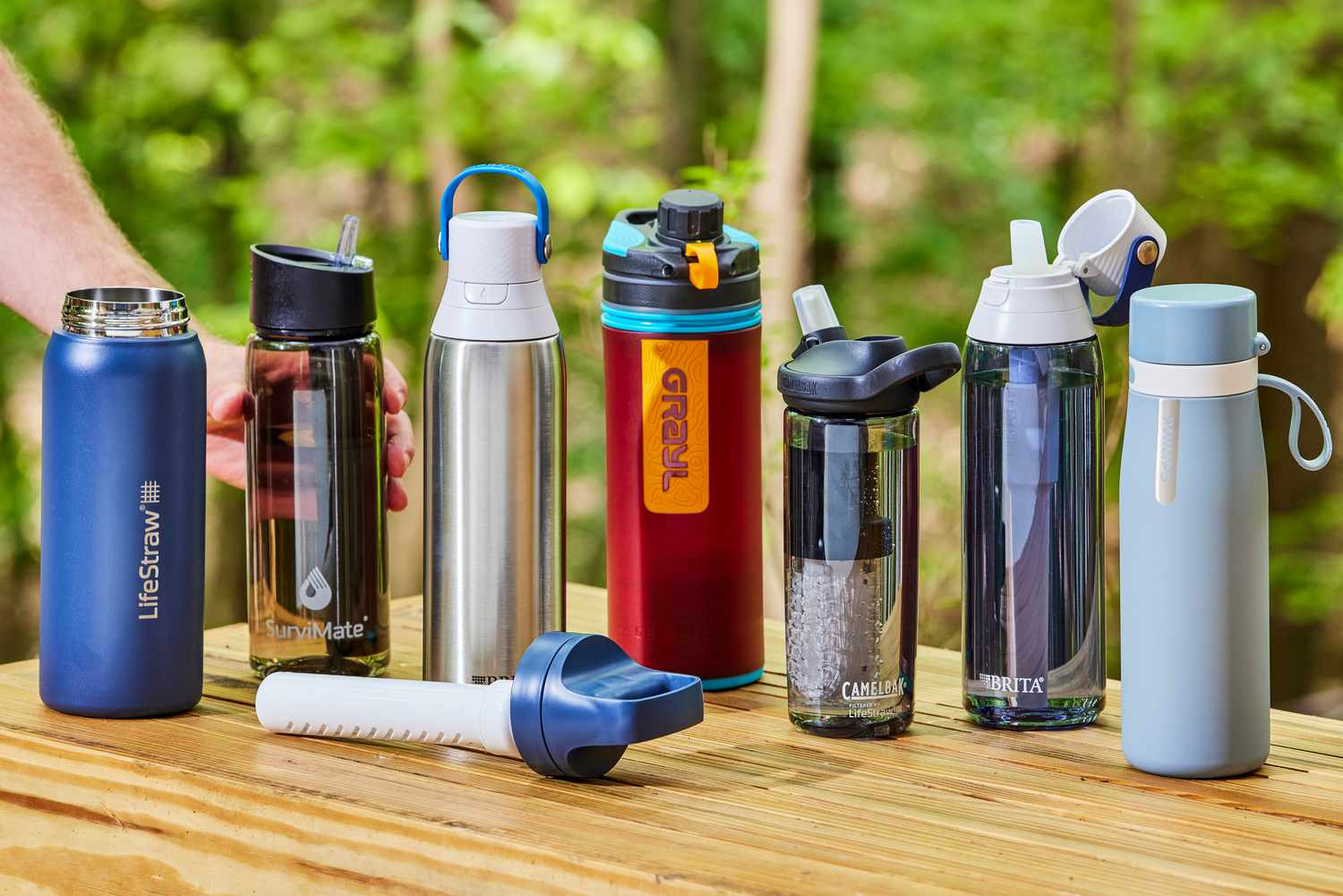bottles: (1121, 284, 1331, 776), (778, 286, 959, 735), (601, 189, 763, 689), (423, 165, 564, 682), (41, 287, 205, 717), (244, 216, 389, 676), (255, 632, 703, 778), (963, 334, 1103, 727), (969, 189, 1165, 346)
